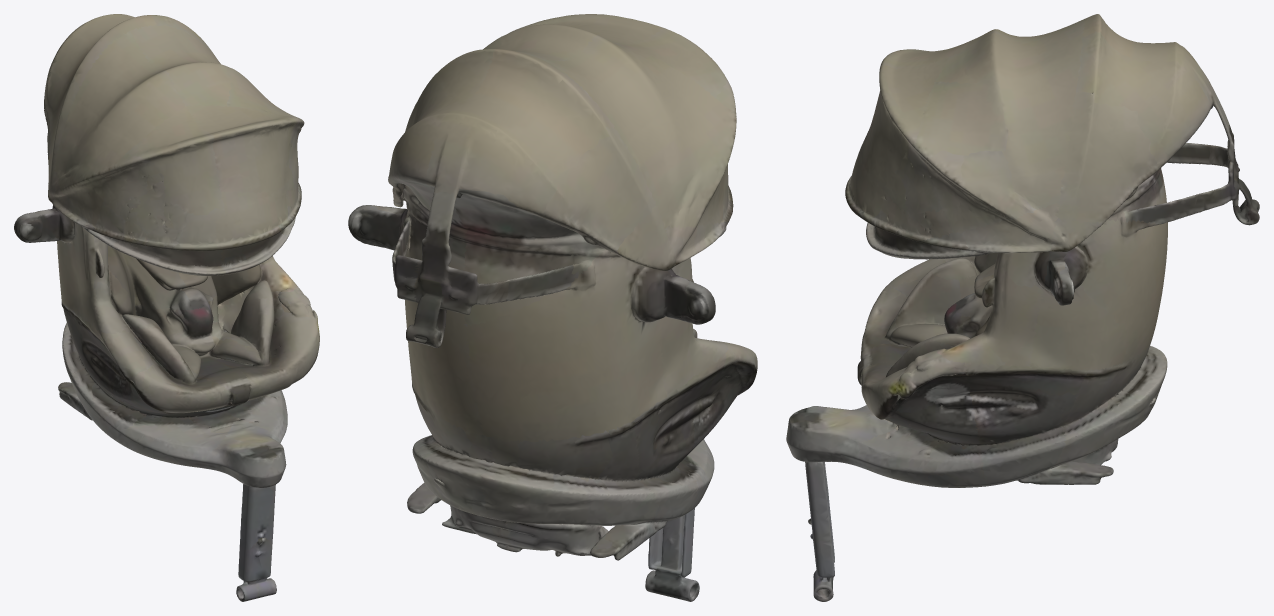
File: seat.glb
3 views of the same model, side by side, from view 1: azimuth 30°, elevation 25°; view 2: azimuth 150°, elevation 25°; view 3: azimuth 270°, elevation 25° (orthographic). The views are drawn at different scales.
Parts seen in each view (by area): view 1: tripo_node_7a5dcd92-ab68-4740-b80d-13d72118e191; view 2: tripo_node_7a5dcd92-ab68-4740-b80d-13d72118e191; view 3: tripo_node_7a5dcd92-ab68-4740-b80d-13d72118e191.
Boxes of the visible parts, x1,y1,x2,y2 form: tripo_node_7a5dcd92-ab68-4740-b80d-13d72118e191: (14, 14, 319, 601); tripo_node_7a5dcd92-ab68-4740-b80d-13d72118e191: (348, 14, 757, 601); tripo_node_7a5dcd92-ab68-4740-b80d-13d72118e191: (786, 14, 1259, 601).
Size of the model in its own units: 0.5774 by 0.9999 by 0.752.
Materials: 1 (1 with a texture image).
